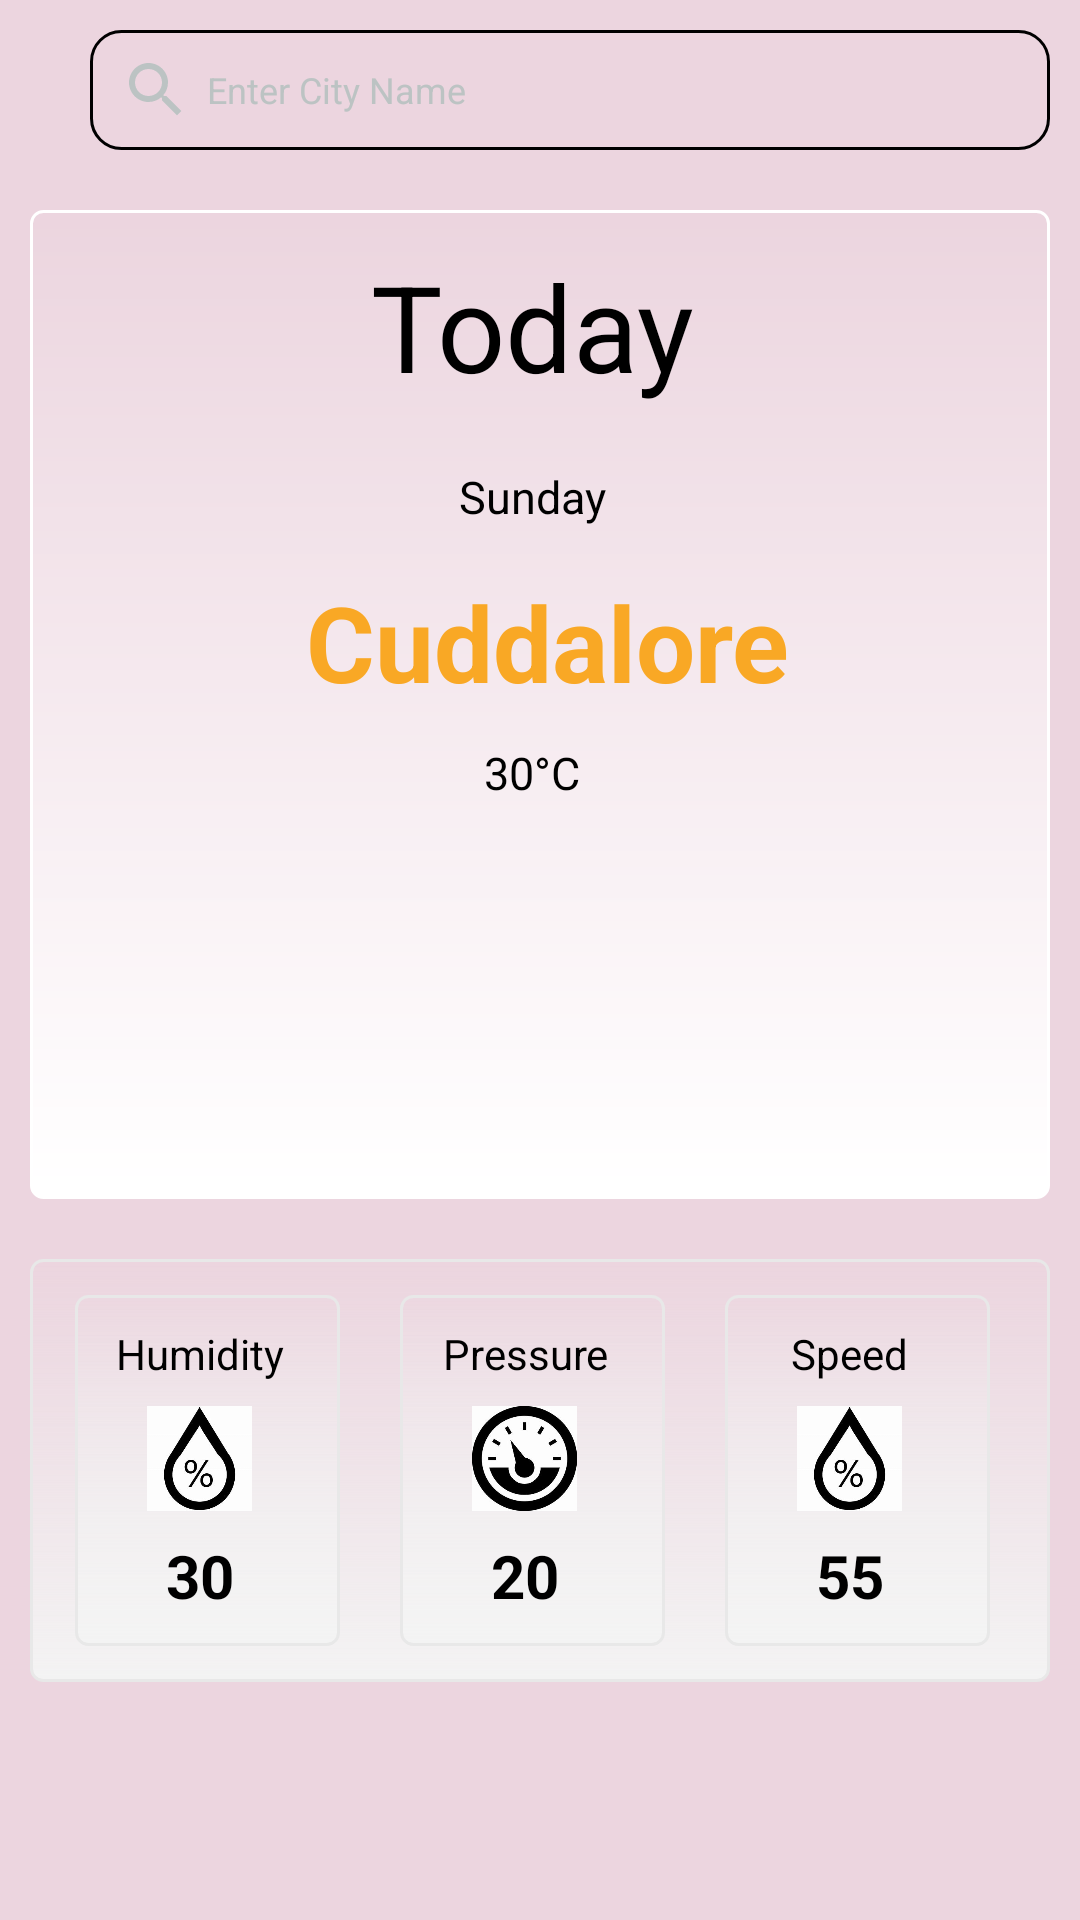

Screen size 1080 × 1920. Icon name, then its box in pixels as (x1, y1, x2, y2):
search: (129, 63, 181, 115)
